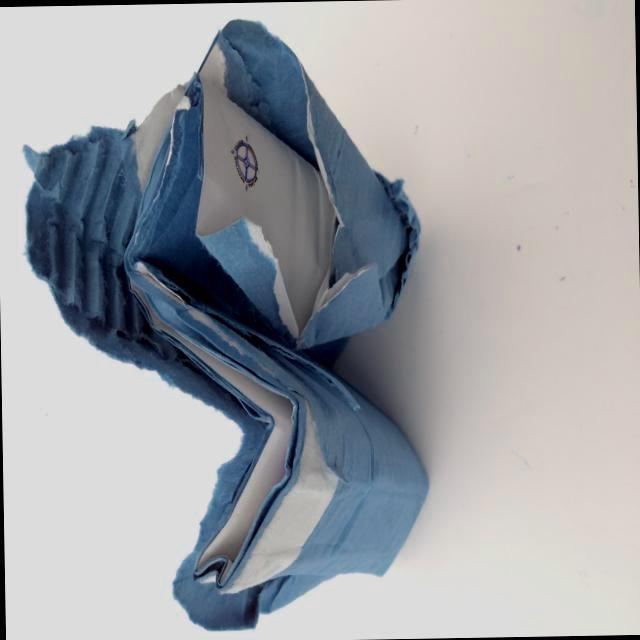cardboard: (0, 6, 456, 640)
